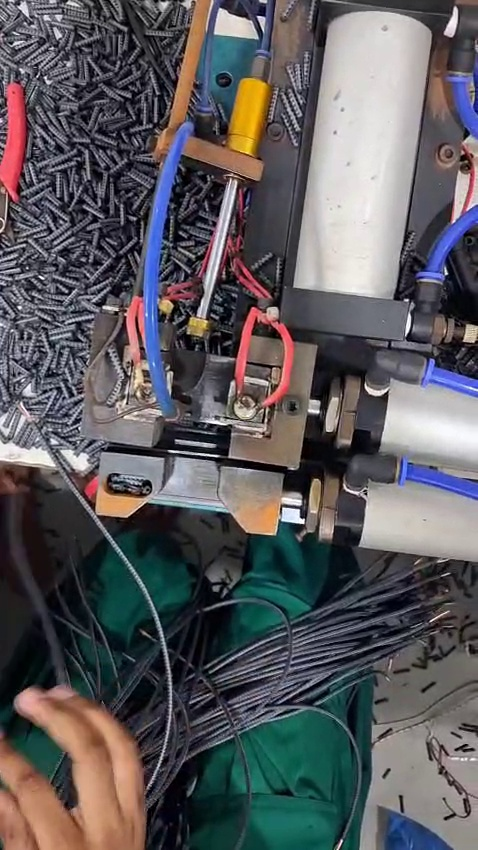machine: (84, 301, 327, 495)
peeled_wire: (7, 389, 66, 464)
